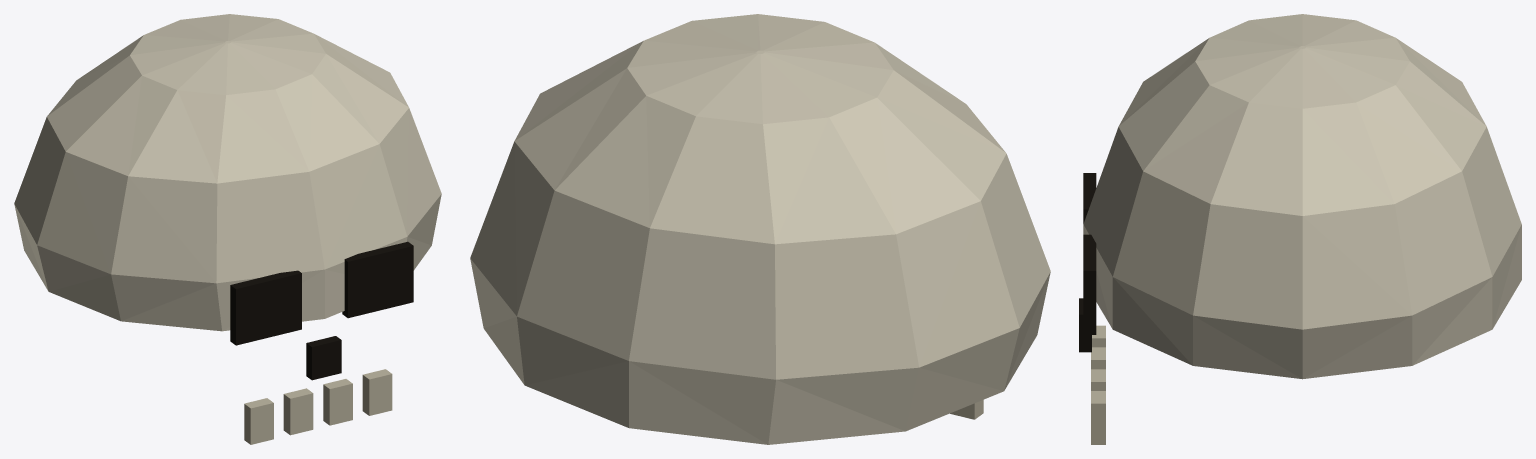
File: skullhelm.glb
3 views of the same model, side by side, from view 1: azimuth 30°, elevation 25°; view 2: azimuth 150°, elevation 25°; view 3: azimuth 270°, elevation 25° (orthographic). The views are drawn at different scales.
Parts seen in each view (by area): view 1: Skull Helm.002; view 2: Skull Helm.002; view 3: Skull Helm.002.
Part boxes in pixels (x1,y1,x2,y2): Skull Helm.002: (14,14,441,444); Skull Helm.002: (470,14,1050,444); Skull Helm.002: (1079,14,1521,444).
Size of the model in its own units: 0.7656 by 0.6074 by 0.6798.
